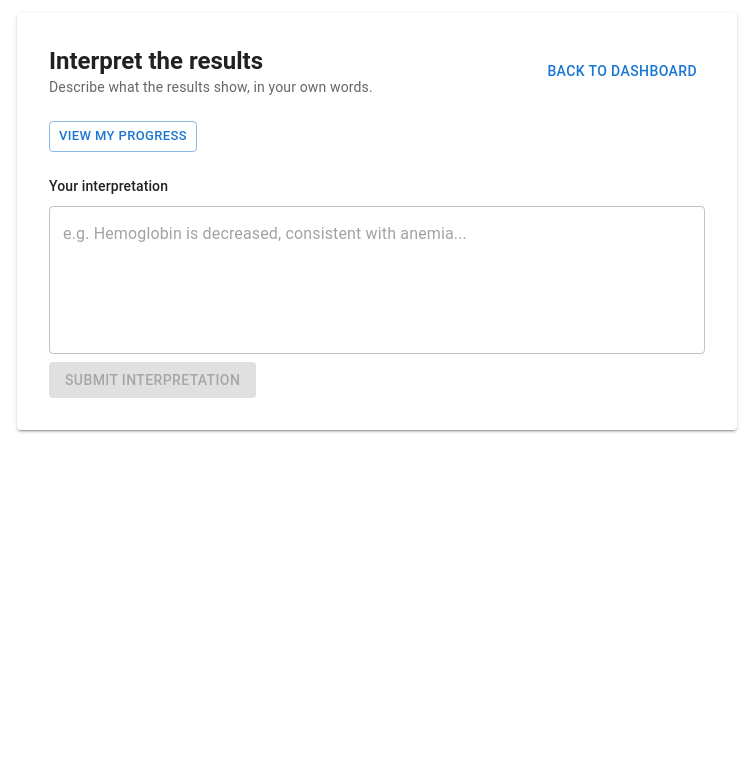
Test case: InterpretationPage › shows missing and incorrect findings for a weak submission
Type "Platelets are increased." into the text box named "Your interpretation". click: (377, 280)
box: top-left (63, 222), bottom-right (691, 337)
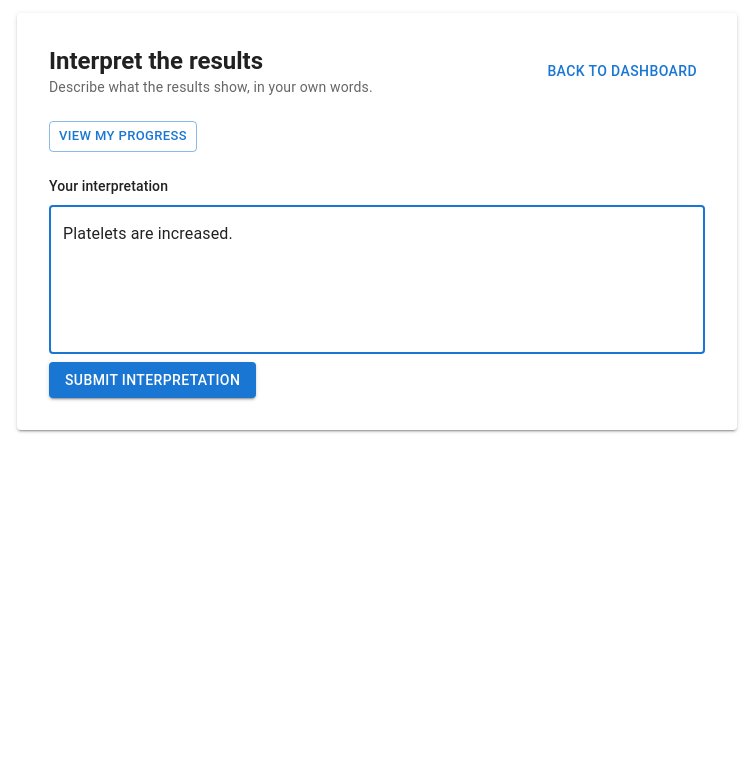
Click the button "Submit interpretation". click: (153, 380)
box: top-left (49, 362), bottom-right (256, 398)
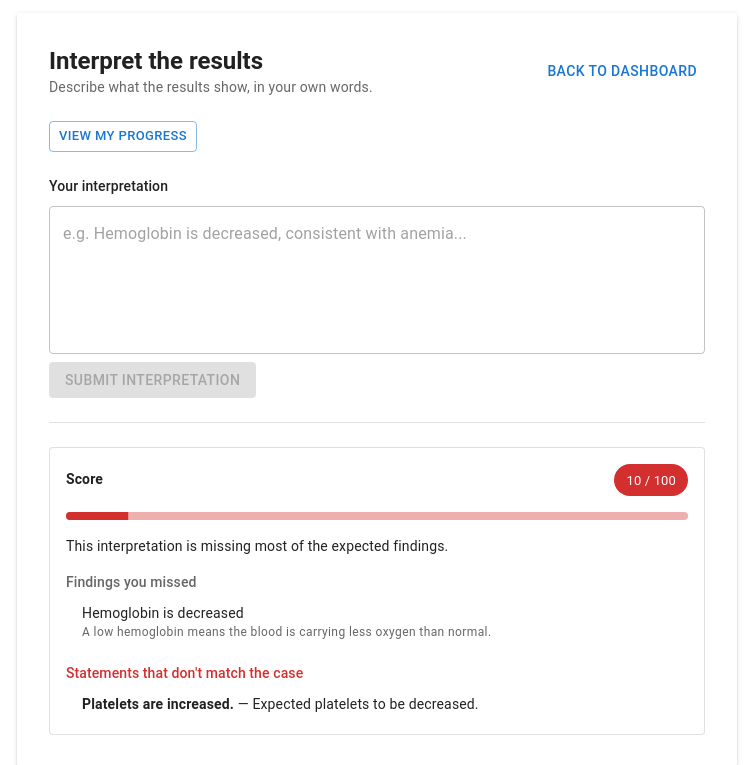
Expected: the text "10 / 100" is shown, top-left (626, 472), bottom-right (676, 488)
Expected: the text "Hemoglobin is decreased" is shown, top-left (82, 605), bottom-right (244, 621)
Expected: the text "Platelets are increased." is shown, top-left (82, 696), bottom-right (234, 712)
